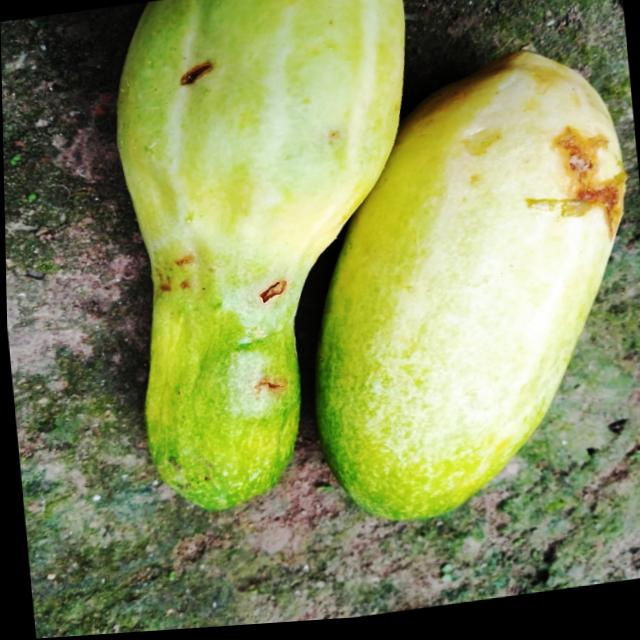Belly-Rot: (523, 126, 635, 269), (151, 248, 199, 306), (169, 52, 220, 100), (244, 368, 291, 410), (253, 277, 289, 313)
